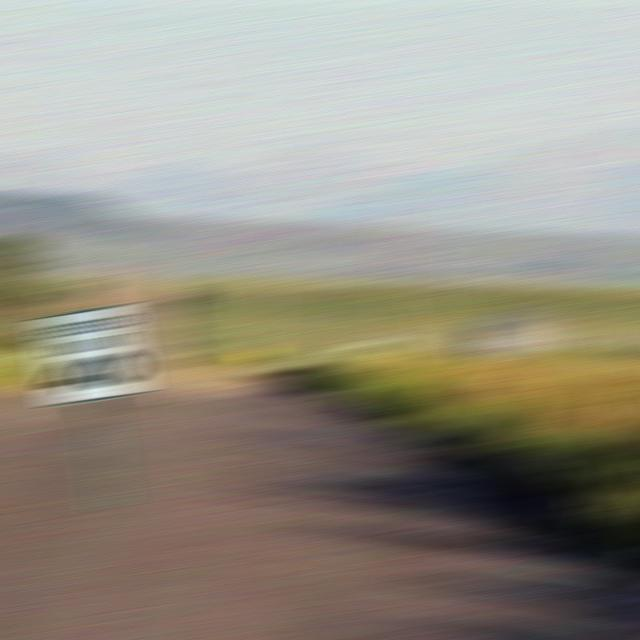speedLimit40: (35, 304, 146, 508)
